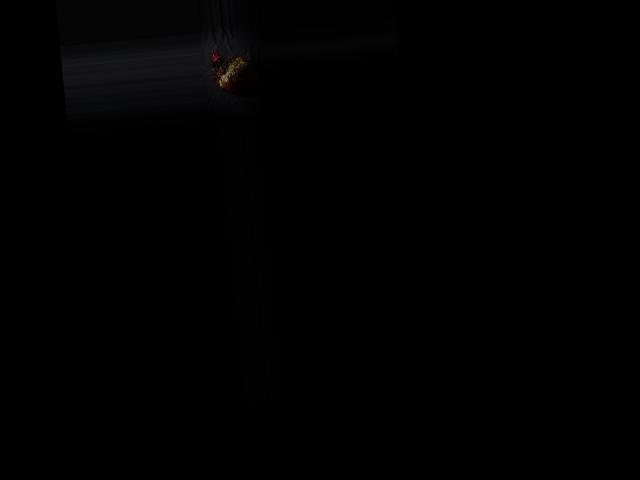beet: (207, 45, 263, 109)
